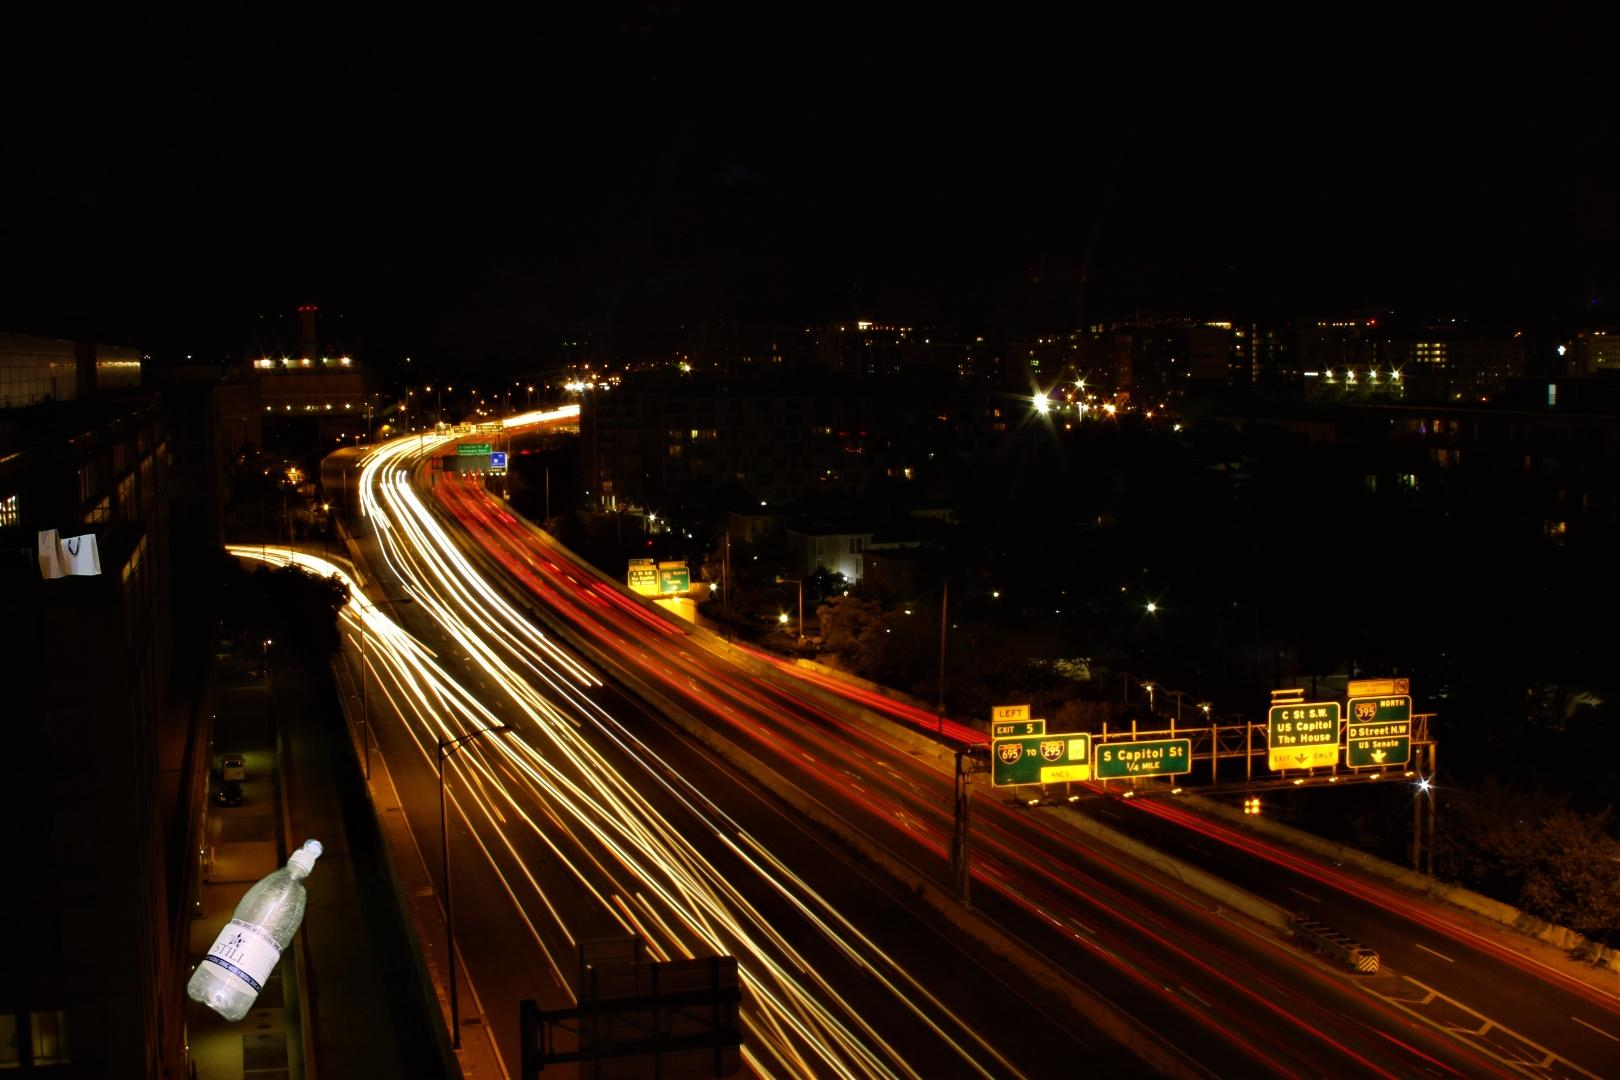paper-bag: (19, 526, 105, 599)
plastic-bottles: (182, 832, 328, 1029)
